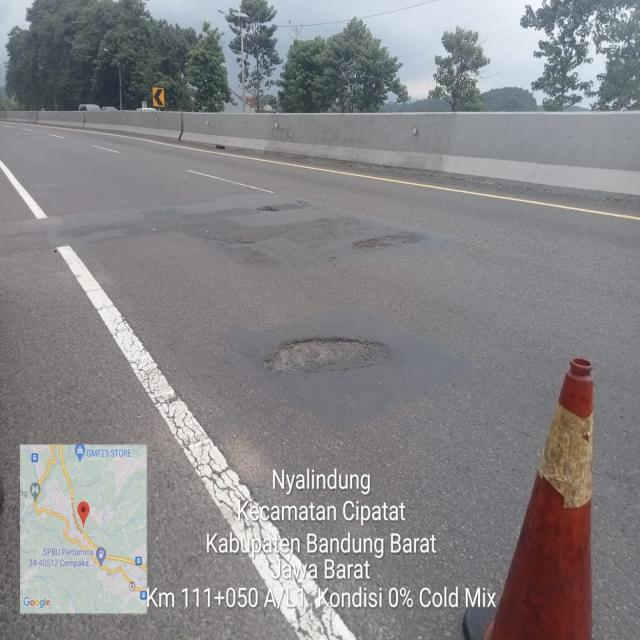Buraco: (259, 335, 393, 377), (350, 233, 410, 252), (255, 205, 282, 213)
